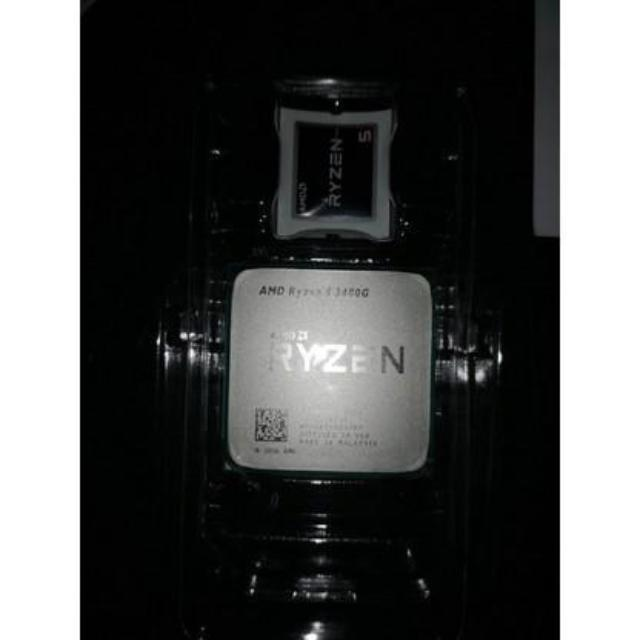CPU: (224, 269, 433, 474)
